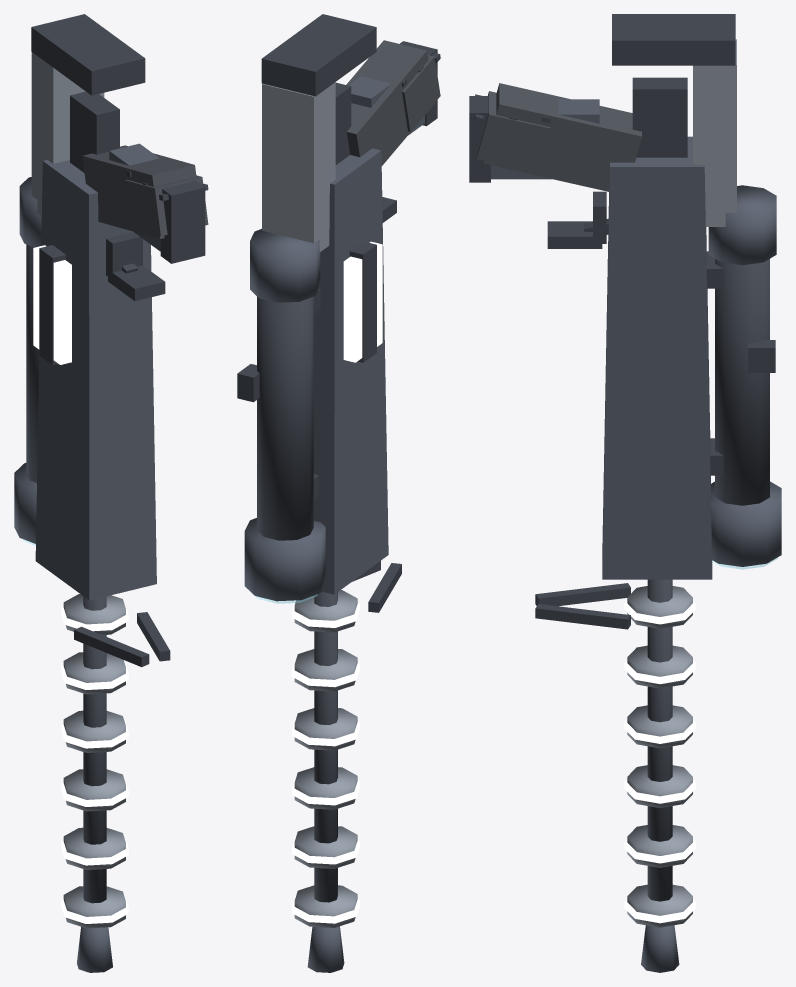
Rendered from wpn_rail_sniper_world.glb.
3 views of the same model, side by side, from view 1: azimuth 30°, elevation 25°; view 2: azimuth 150°, elevation 25°; view 3: azimuth 270°, elevation 25° (orthographic). The views are drawn at different scales.
Visible parts, largest first — view 1: wpn_rail_sniper_world; view 2: wpn_rail_sniper_world; view 3: wpn_rail_sniper_world.
Boxes of the visible parts, left/top/right/bottom form: wpn_rail_sniper_world: left=14, top=14, right=208, bottom=972; wpn_rail_sniper_world: left=237, top=14, right=440, bottom=972; wpn_rail_sniper_world: left=469, top=14, right=781, bottom=972.
Size of the model in its own units: 0.0712 by 0.753 by 0.2275.
